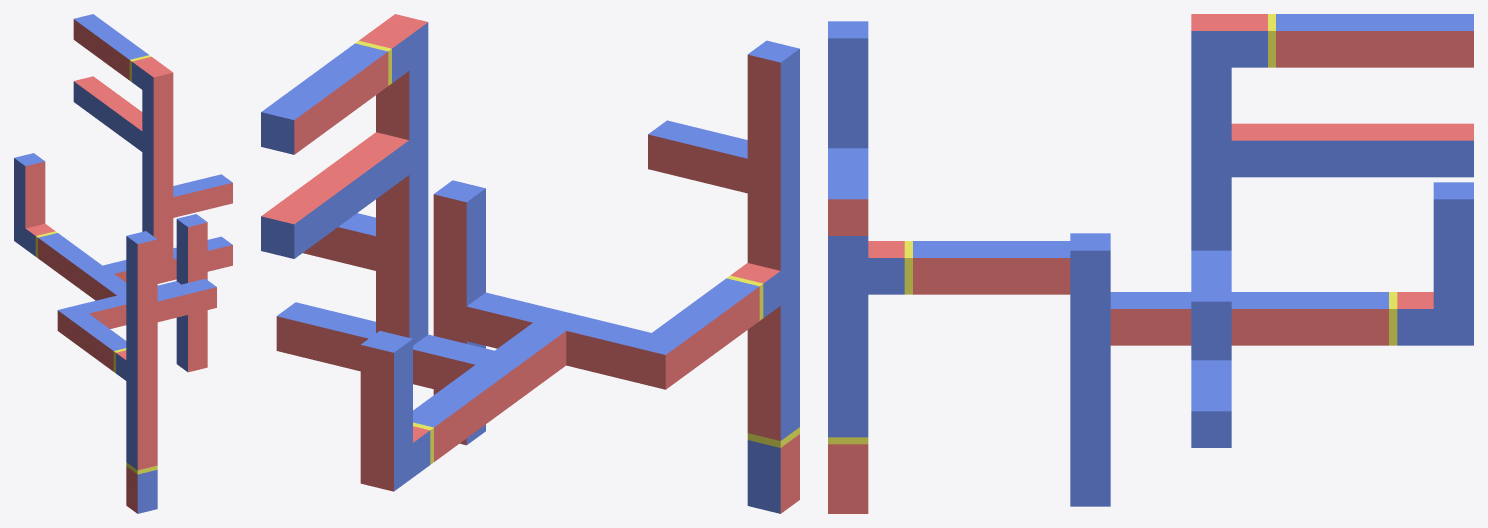
The model's file is teleportation_n3_closed_port.dae.
3 renders of one model, left to right at view 1: azimuth 30°, elevation 25°; view 2: azimuth 150°, elevation 25°; view 3: azimuth 270°, elevation 25°, orthographic. The views are drawn at different scales.
Visible parts, largest first — view 1: ZXO (×17), OXZ (×6), XOZ (×8), ZXZ (×8), ZXX (×5), ZOX (×4), XZOH (×2), XZZ, XXZ; view 2: ZXO (×16), OXZ (×11), ZXZ (×16), XOZ (×8), XZZ (×11), ZXX (×10), XXZ (×8), ZOX (×4), XZOH (×4), ZZX (×3), ZOXH (×4), XOZH (×2); view 3: ZXO (×9), XOZ (×8), ZXZ (×11), ZXX (×8), ZOX (×4), XZZ (×5), ZOXH (×4), OXZ (×3), XZOH (×2), XOZH (×2), ZZX (×2), XXZ (×2).
Part boxes in pixels (bbox=[...]): ZXO (×17): bbox=[14, 90, 207, 430]; OXZ (×6): bbox=[77, 179, 212, 328]; XOZ (×8): bbox=[59, 22, 127, 355]; ZXZ (×8): bbox=[25, 161, 232, 326]; ZXX (×5): bbox=[137, 73, 207, 451]; ZOX (×4): bbox=[85, 84, 142, 151]; XZOH (×2): bbox=[137, 447, 157, 492]; XZZ: bbox=[137, 488, 157, 513]; XXZ: bbox=[197, 287, 216, 312]; ZXO (×16): bbox=[360, 57, 799, 456]; OXZ (×11): bbox=[309, 128, 747, 390]; ZXZ (×16): bbox=[276, 40, 799, 387]; XOZ (×8): bbox=[280, 70, 723, 435]; XZZ (×11): bbox=[261, 56, 799, 513]; ZXX (×10): bbox=[319, 14, 799, 491]; XXZ (×8): bbox=[476, 120, 699, 407]; ZOX (×4): bbox=[280, 132, 409, 244]; XZOH (×4): bbox=[747, 396, 799, 478]; ZZX (×3): bbox=[261, 202, 313, 258]; ZOXH (×4): bbox=[371, 36, 780, 333]; XOZH (×2): bbox=[413, 415, 451, 477]; ZXO (×9): bbox=[828, 67, 1473, 469]; XOZ (×8): bbox=[989, 14, 1433, 345]; ZXZ (×11): bbox=[828, 21, 1473, 447]; ZXX (×8): bbox=[828, 31, 1473, 506]; ZOX (×4): bbox=[1231, 123, 1433, 177]; XZZ (×5): bbox=[828, 31, 1473, 513]; ZOXH (×4): bbox=[868, 31, 1312, 294]; OXZ (×3): bbox=[828, 148, 1231, 394]; XZOH (×2): bbox=[828, 404, 868, 477]; XOZH (×2): bbox=[1352, 309, 1433, 345]; ZZX (×2): bbox=[1433, 123, 1473, 177]; XXZ (×2): bbox=[828, 182, 868, 235].
Bounding box in the file's own units: 10 × 16 × 16.
